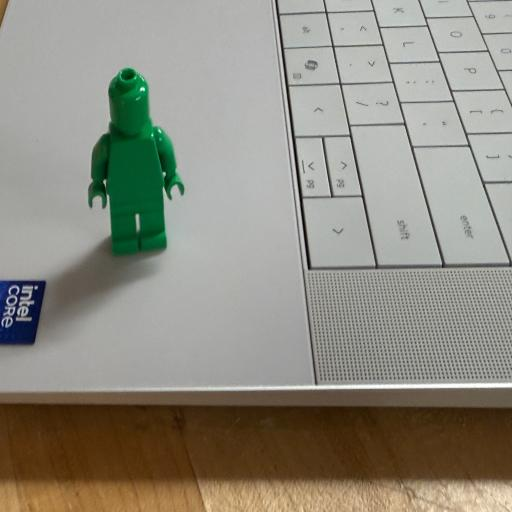Lego-Dude: (88, 68, 184, 254)
